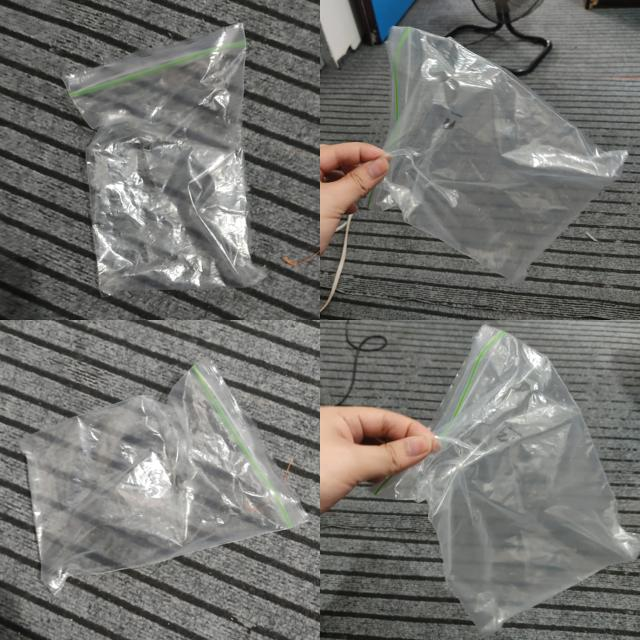Single-layer Plastic: (375, 325, 640, 634), (20, 359, 308, 594), (368, 26, 626, 282), (65, 24, 264, 295)
